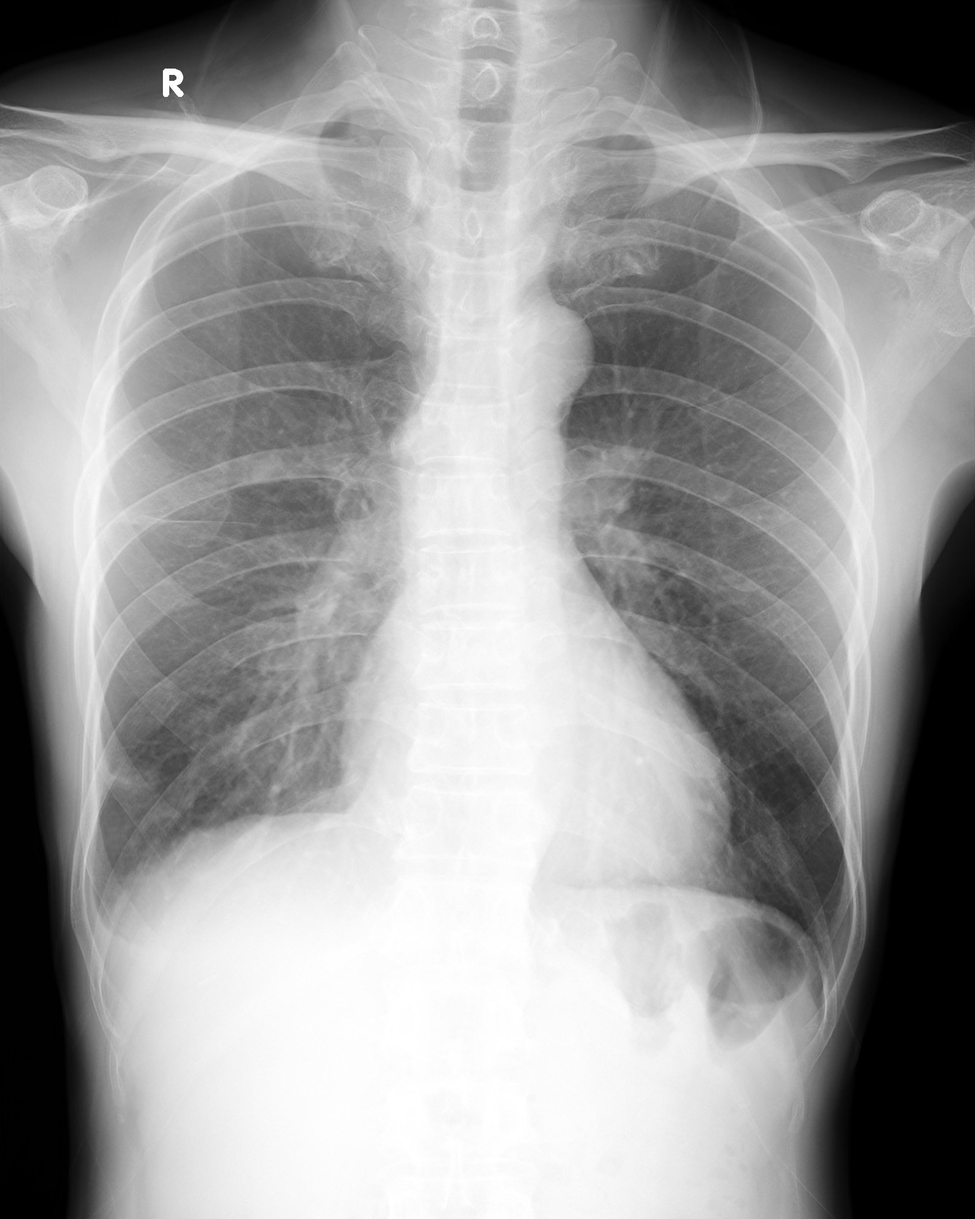Pleural thickening: (78, 876, 138, 954)
